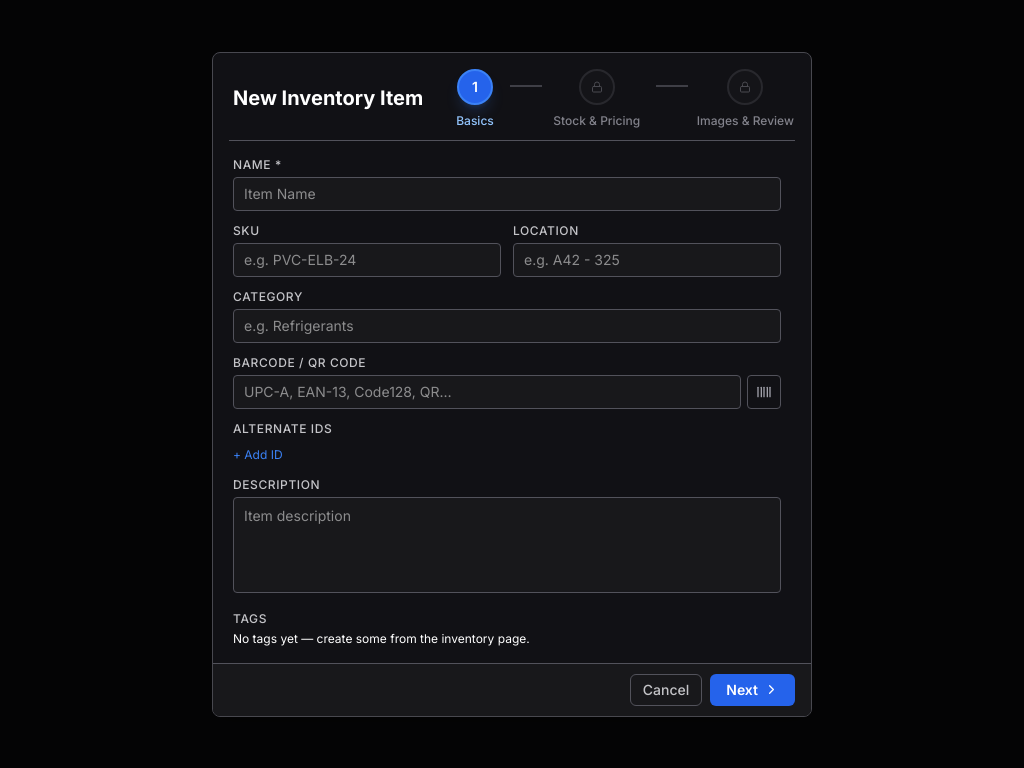
it: fractional quantity + threshold (D1) › rejects a low-stock threshold with 3 decimal places
Type "Braze Rod" into the field with placeholder "Item Name".
click(507, 194); type("Braze Rod")  # box top-left (233, 176), bottom-right (781, 210)
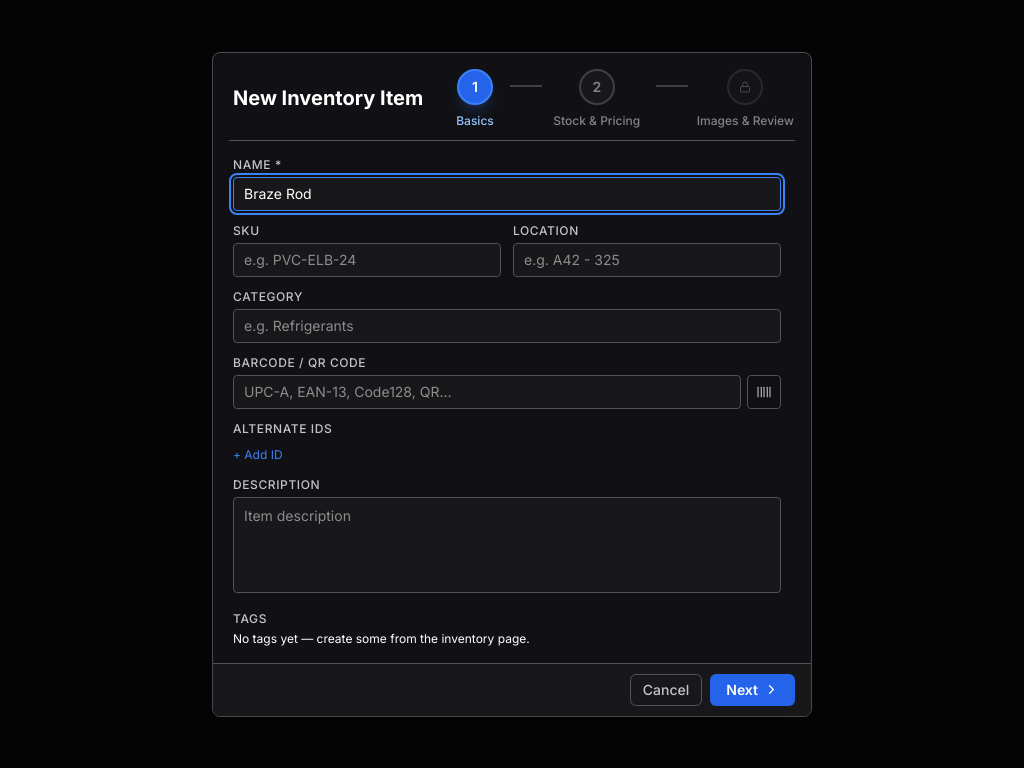
Type "A1-100" into the field with placeholder "e.g. A42 - 325".
click(647, 260); type("A1-100")  # box top-left (513, 242), bottom-right (781, 276)
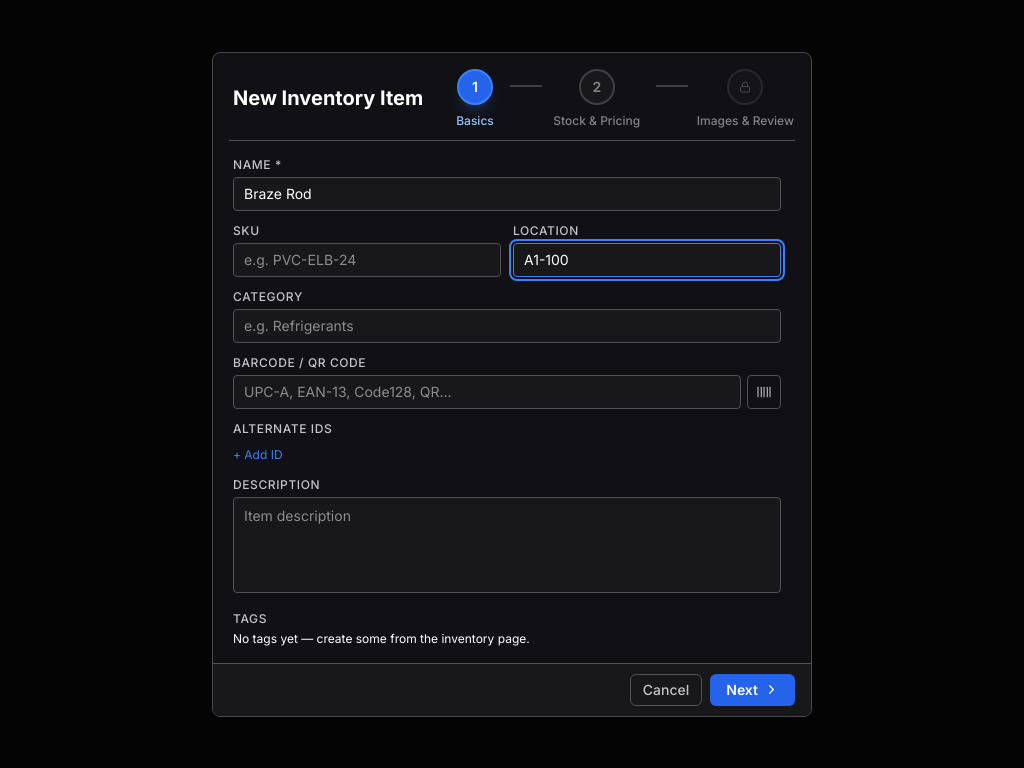
Click the button "Next".
click(753, 690)  # box top-left (710, 674), bottom-right (795, 706)
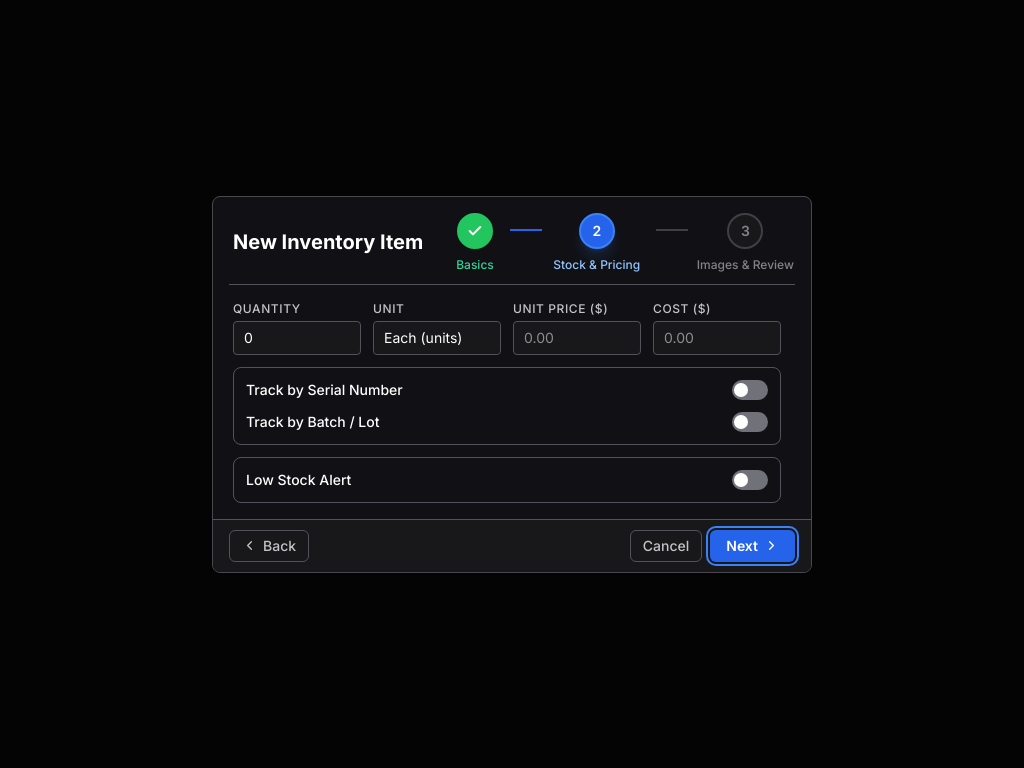
Click the 3rd switch.
click(750, 480)  # box top-left (732, 470), bottom-right (768, 490)
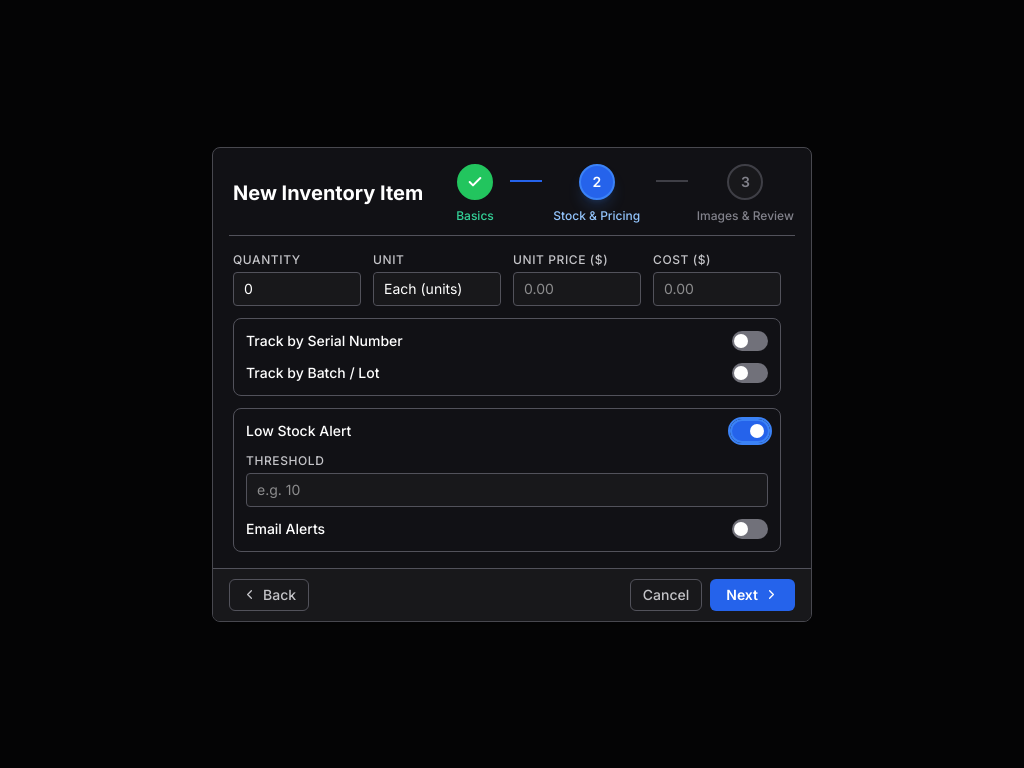
Type "2.505" into the number field with placeholder "e.g. 10".
click(507, 490); type("2.505")  # box top-left (246, 472), bottom-right (768, 506)
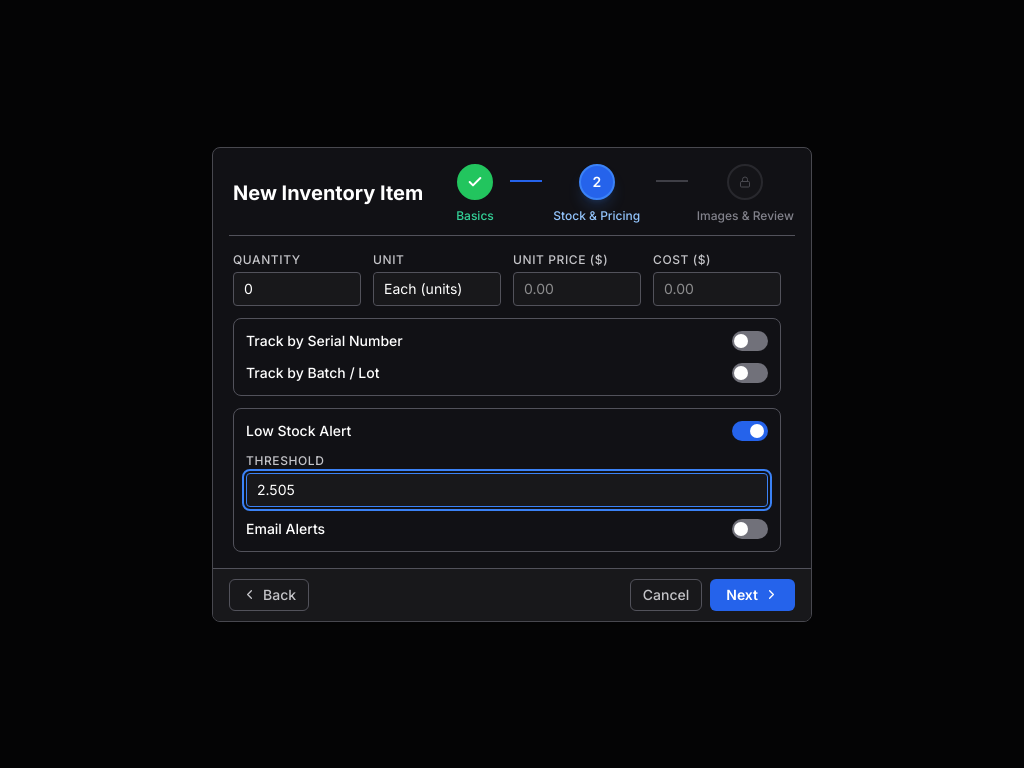
Click the button "Next".
click(753, 594)  # box top-left (710, 578), bottom-right (795, 610)
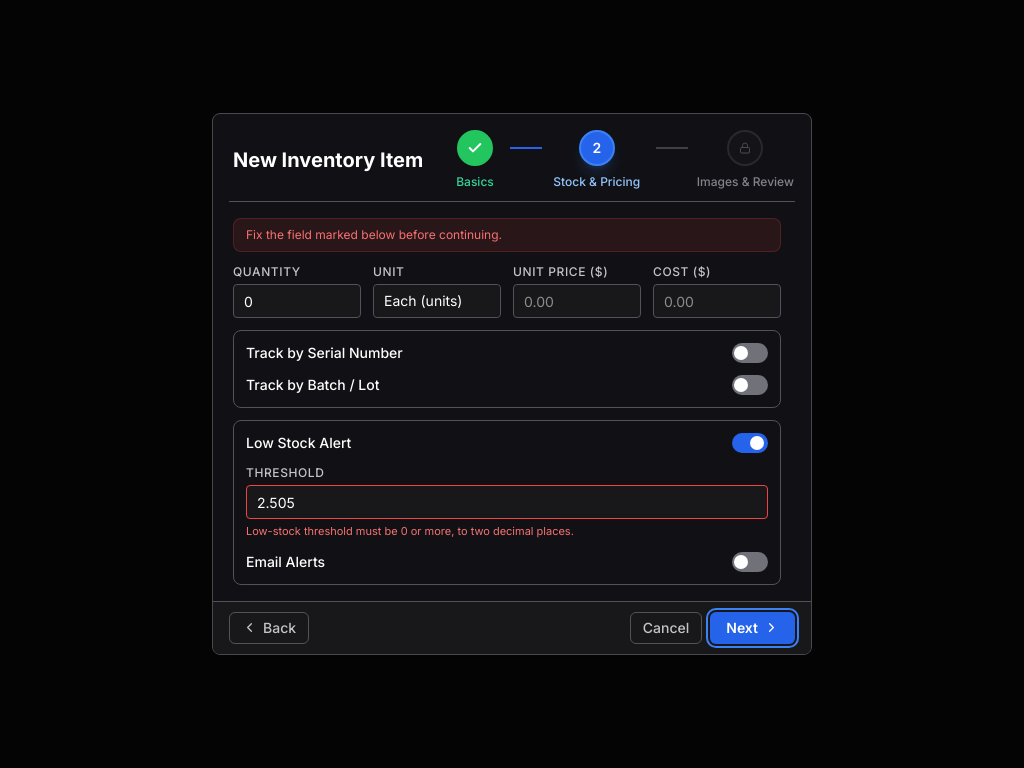
Result: the text "Low-stock threshold must be 0 or more, to two decimal places." is shown at top-left (246, 524), bottom-right (574, 538)
